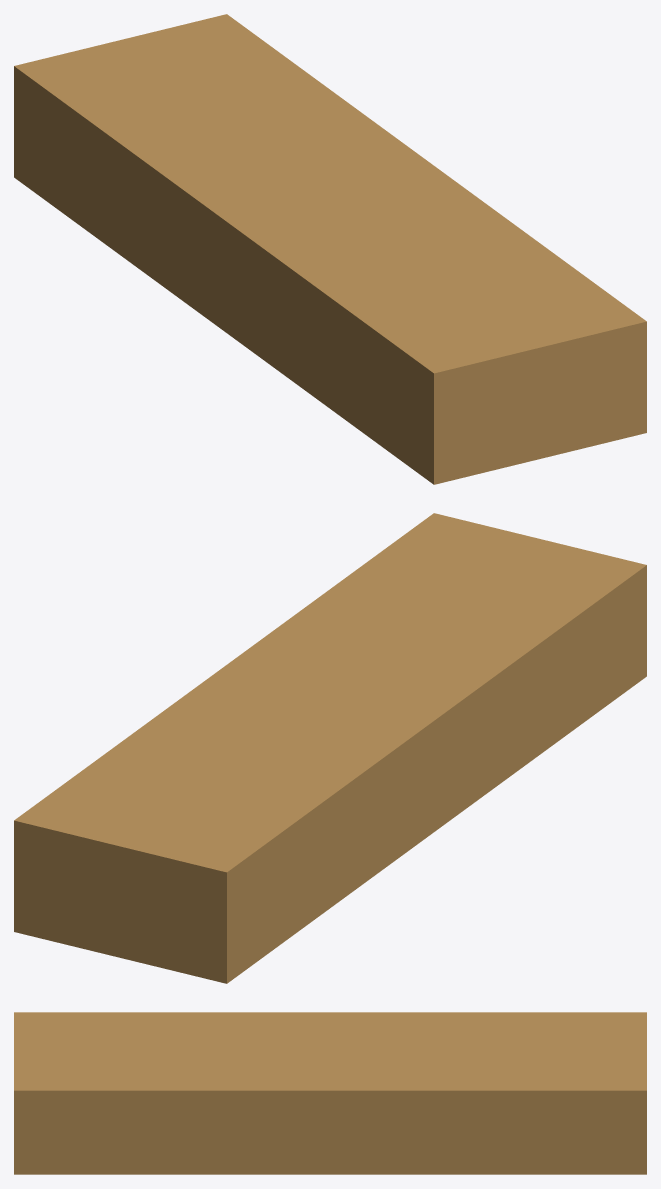
3 views of the same model, one above another, from view 1: azimuth 30°, elevation 25°; view 2: azimuth 150°, elevation 25°; view 3: azimuth 270°, elevation 25° (orthographic). The views are drawn at different scales.
Parts seen in each view (by area): view 1: __delivery_mesh_6762; view 2: __delivery_mesh_6762; view 3: __delivery_mesh_6762.
Boxes of the visible parts, x1,y1,x2,y2 form: __delivery_mesh_6762: [14, 14, 646, 484]; __delivery_mesh_6762: [14, 513, 646, 983]; __delivery_mesh_6762: [14, 1012, 646, 1174].
Size of the model in its own units: 0.09 by 0.045 by 0.3075.
